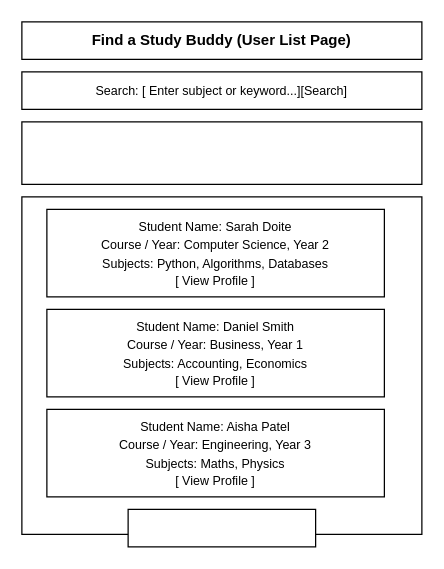
Some shapes in this 444 by 569 pixel diagram are drawn without their labels. The shapes that lost their labels are listed below. From the top down, each one's centre as x and y in pixels, then its label:
point (221, 152): Filters / Tags: [Maths] [Programming] [First Year] [Business] [More...]
point (221, 527): [ Previous ] [ Next ]
